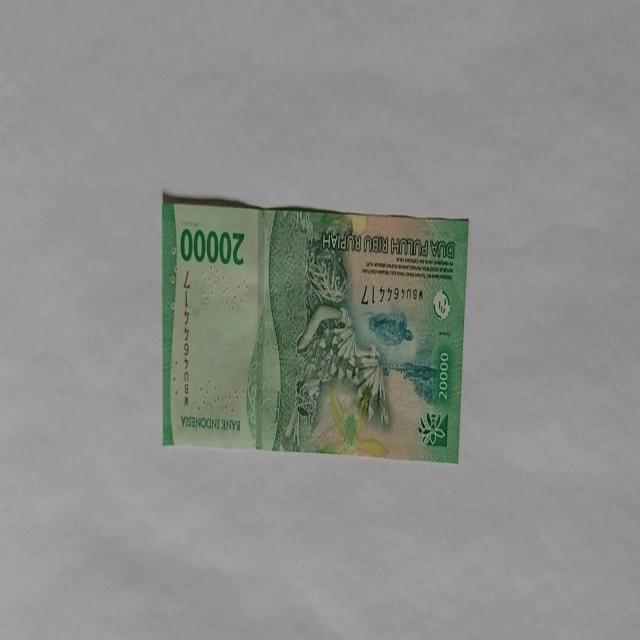dua puluh ribu rupiah: (161, 196, 469, 462), (246, 207, 389, 453)
